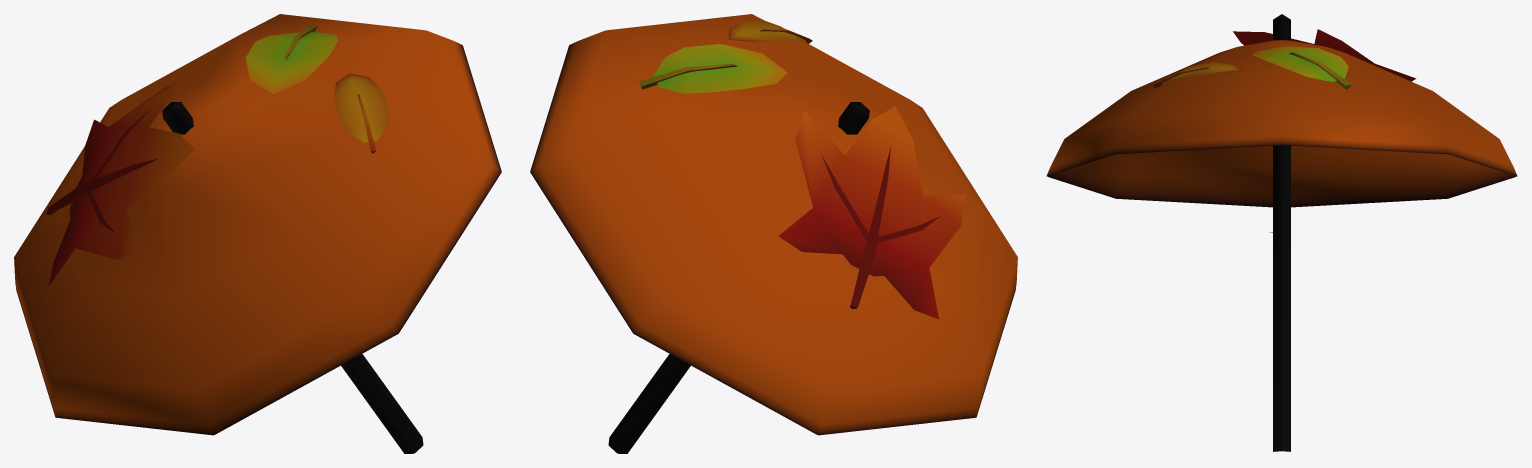
File: hat_umbrellaleaf.glb
3 renders of one model, left to right at view 1: azimuth 30°, elevation 25°; view 2: azimuth 150°, elevation 25°; view 3: azimuth 270°, elevation 25°, orthographic. The views are drawn at different scales.
Visible parts, largest first — view 1: hat_umbrellaleaf; view 2: hat_umbrellaleaf; view 3: hat_umbrellaleaf.
Boxes of the visible parts, x1,y1,x2,y2 form: hat_umbrellaleaf: (14, 14, 501, 453); hat_umbrellaleaf: (530, 14, 1017, 453); hat_umbrellaleaf: (1046, 14, 1517, 451).
Bounding box in the file's own units: 0.3158 × 0.3107 × 0.3701.
